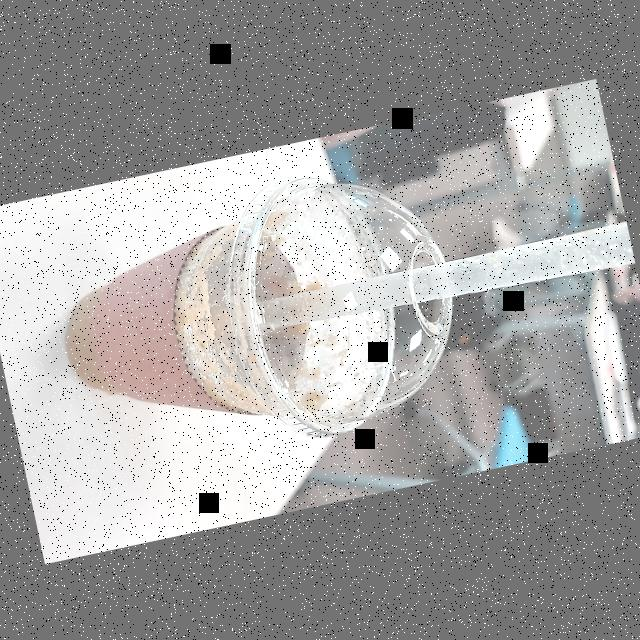plastic_cup: (29, 152, 498, 485)
plastic_cup_lid: (210, 147, 478, 450)
straw: (251, 223, 634, 334)
